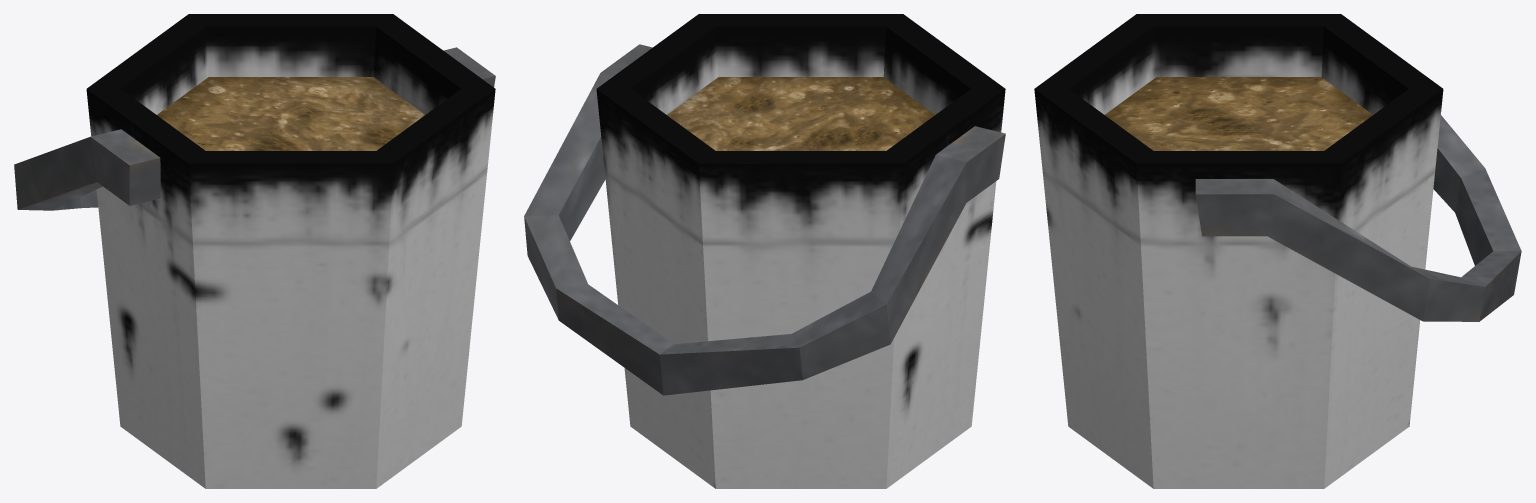
File: Bucket.fbx
3 views of the same model, side by side, from view 1: azimuth 30°, elevation 25°; view 2: azimuth 150°, elevation 25°; view 3: azimuth 270°, elevation 25° (orthographic).
Visible parts, largest first — view 1: Bucket_Water, _WaterDirty; view 2: Bucket_Water, _WaterDirty; view 3: Bucket_Water, _WaterDirty.
Part boxes in pixels (x1,y1,x2,y2): Bucket_Water: [14, 14, 495, 488]; _WaterDirty: [157, 77, 424, 150]; Bucket_Water: [524, 14, 1005, 488]; _WaterDirty: [667, 77, 934, 150]; Bucket_Water: [1034, 14, 1521, 488]; _WaterDirty: [1105, 77, 1372, 150].
Size of the model in its own units: 70.48 by 62.07 by 81.19.
2 materials, 2 textured.
